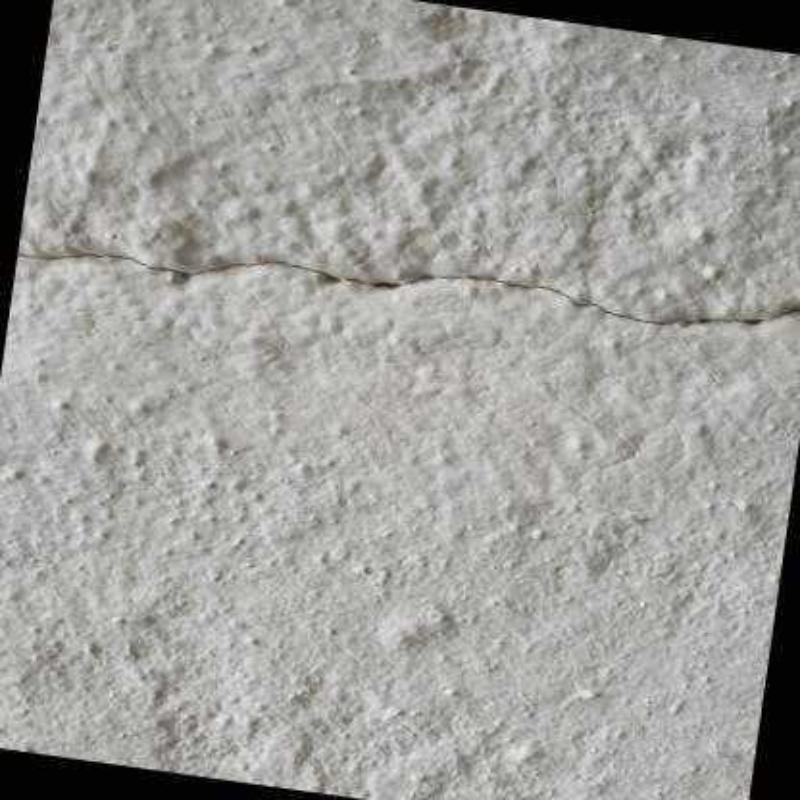pothole: (20, 252, 799, 325)
